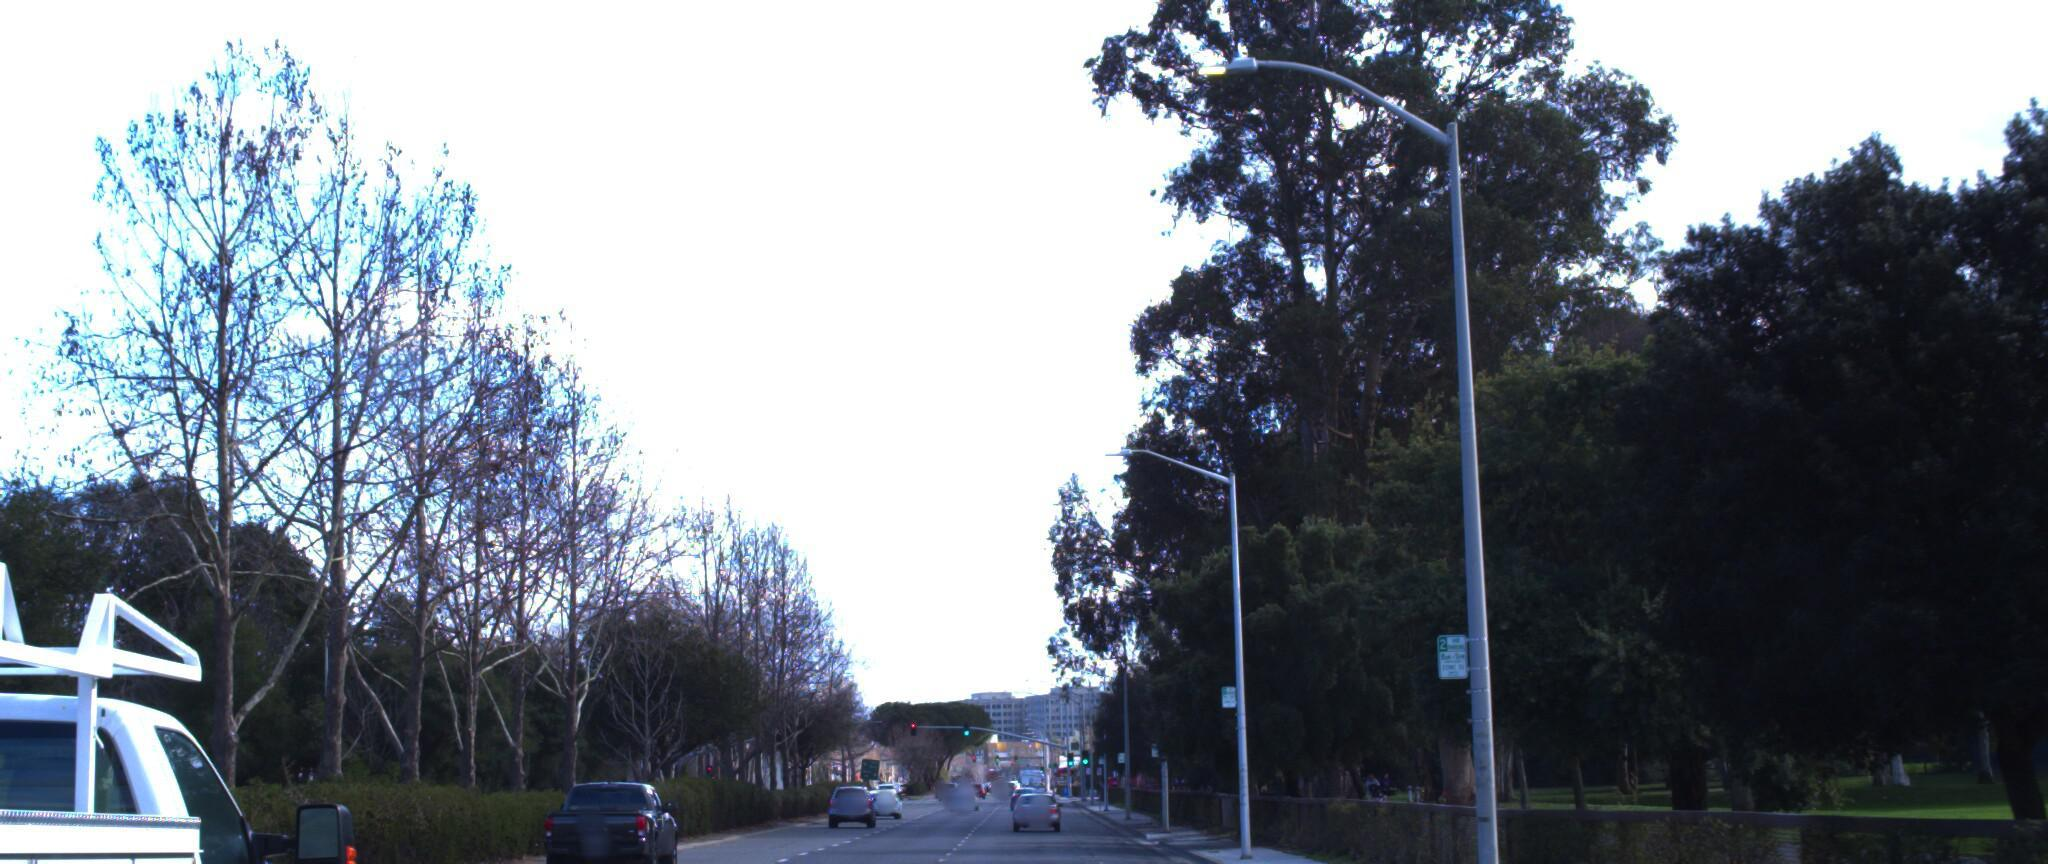car: (0, 482, 388, 864), (539, 773, 684, 864)
